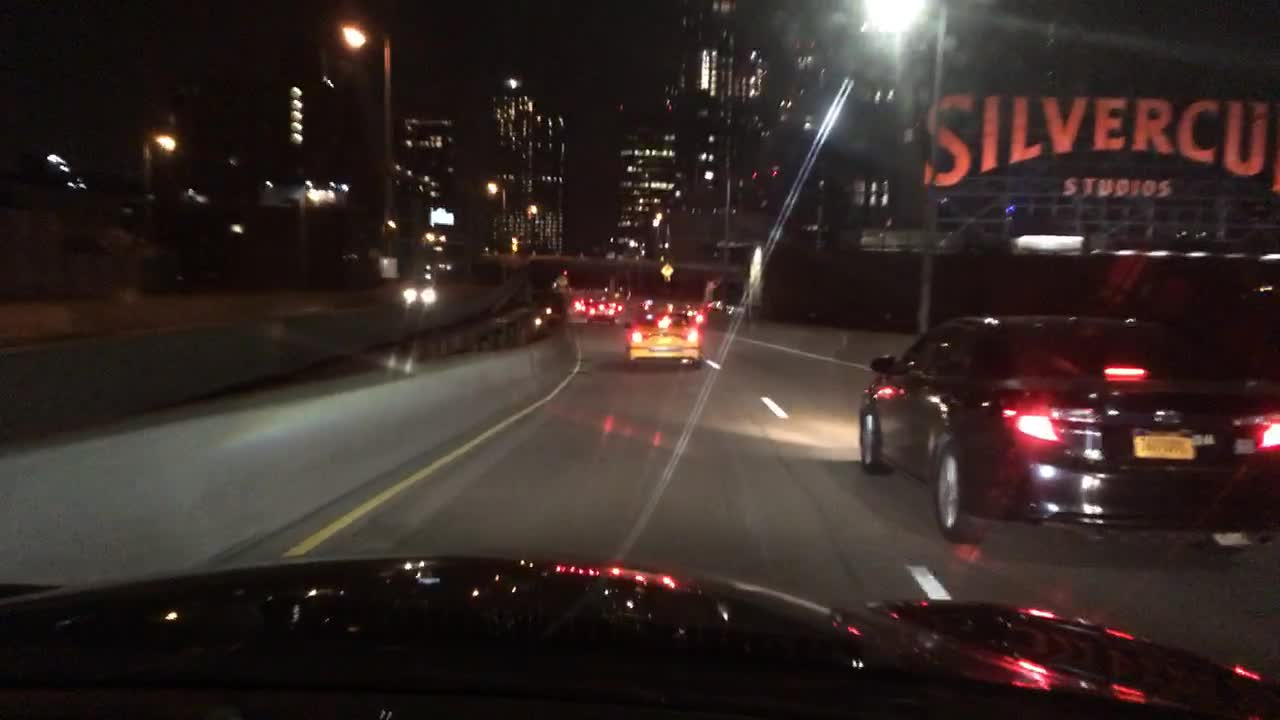car: (855, 311, 1279, 543), (622, 311, 704, 368), (403, 283, 440, 308), (582, 300, 616, 320), (575, 298, 587, 311)
traffic sign: (660, 262, 672, 278), (556, 272, 567, 286)
